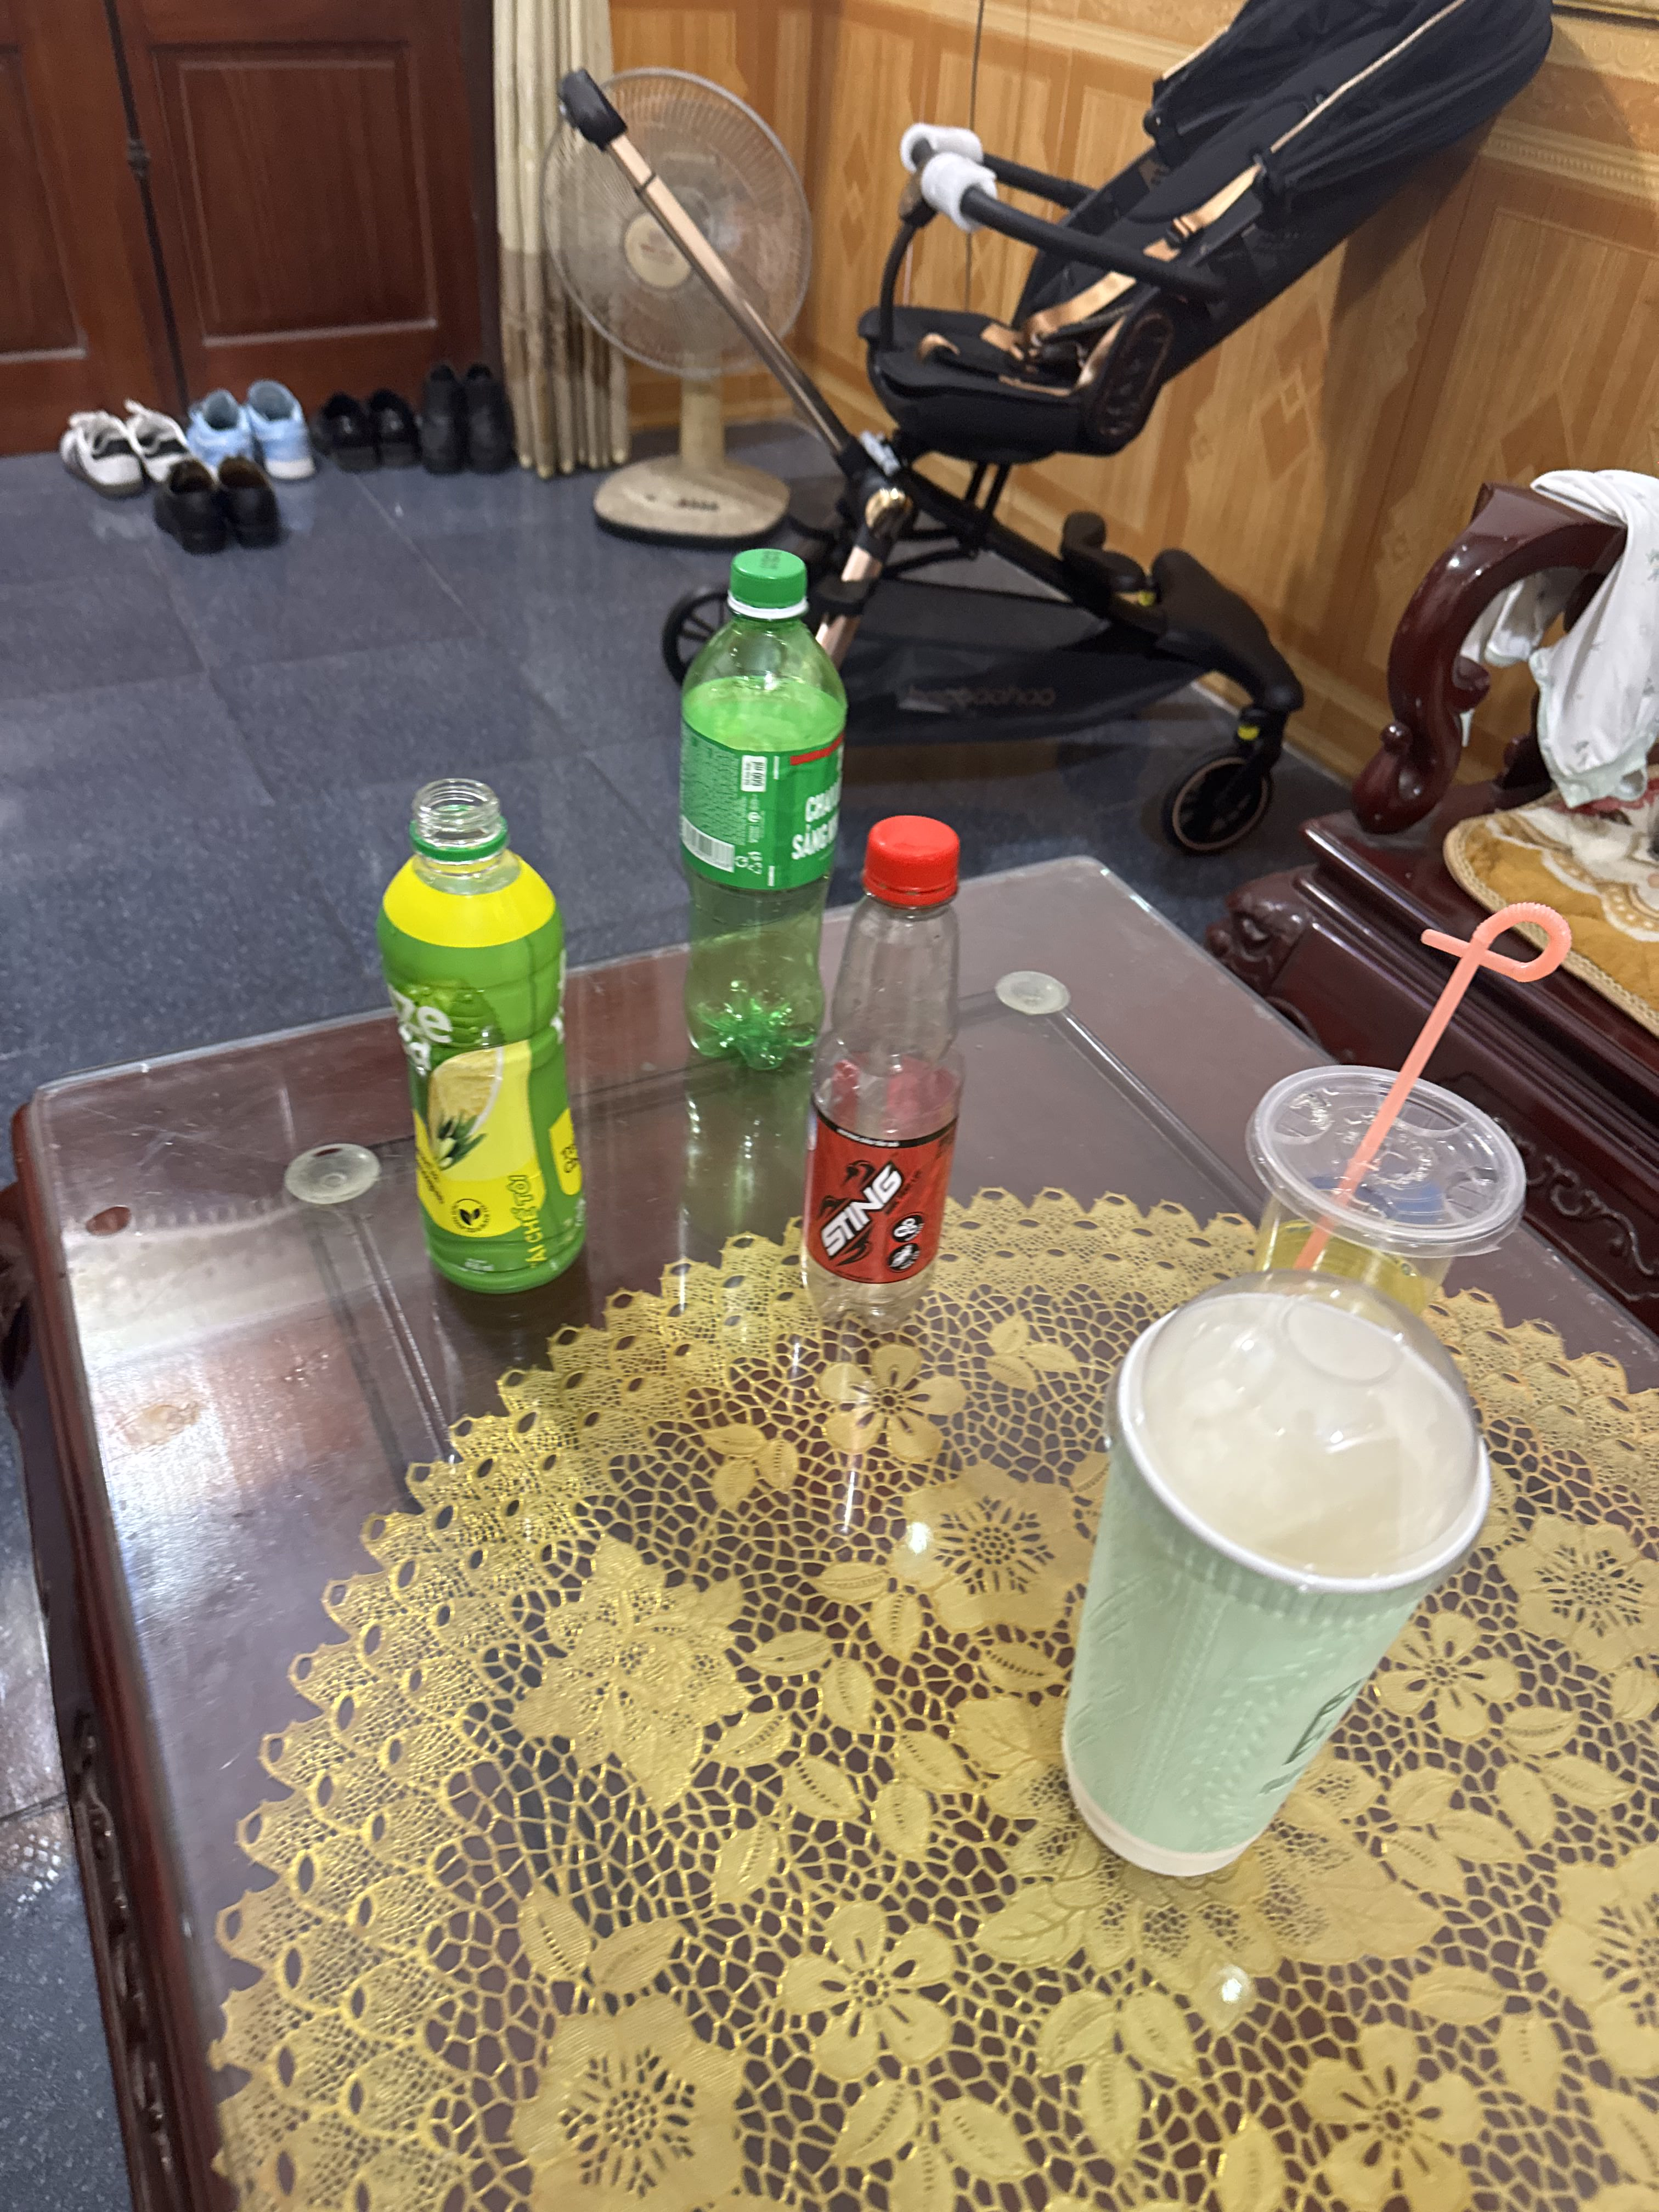2: (1032, 1258, 1497, 1949), (1216, 1008, 1547, 1366)
bottle: (350, 742, 636, 1318), (744, 799, 1019, 1343), (640, 524, 854, 1076)
